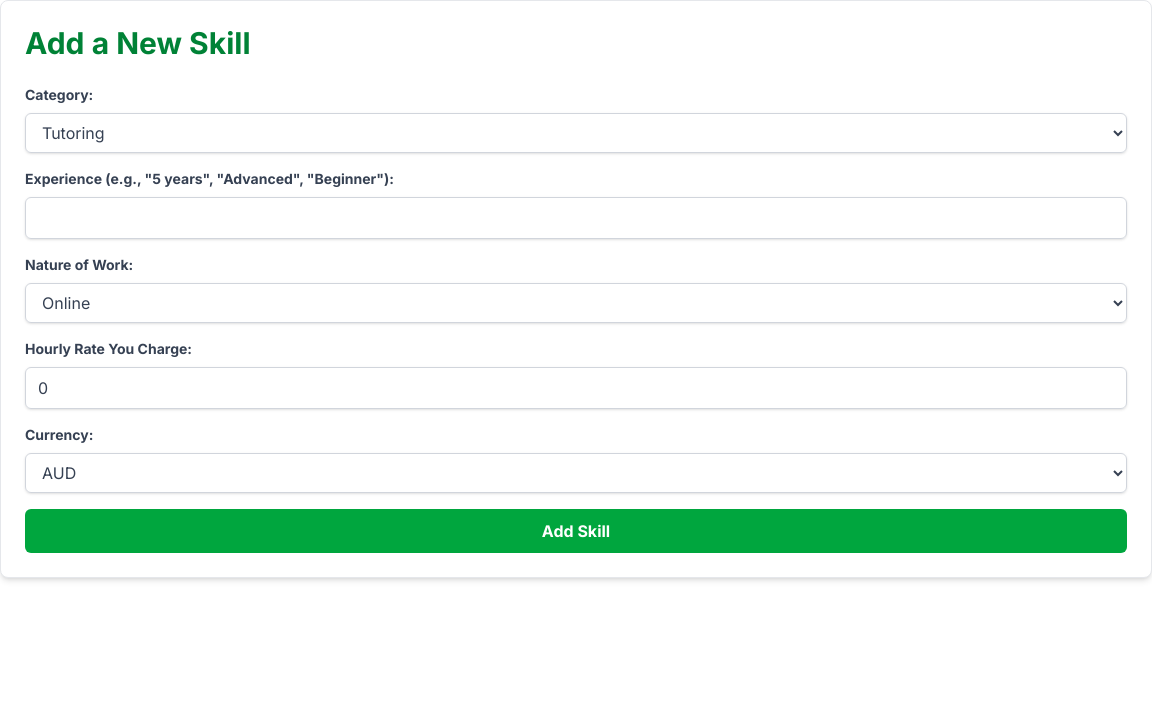
Test case: CreateSkillPage › submits form and shows success, then redirects
Type "5 years" into the field labelled "Experience (e.g., \"5 years\", \"Advanced\", \"Beginner\"):" at (576, 218), box [25,197,1127,239]
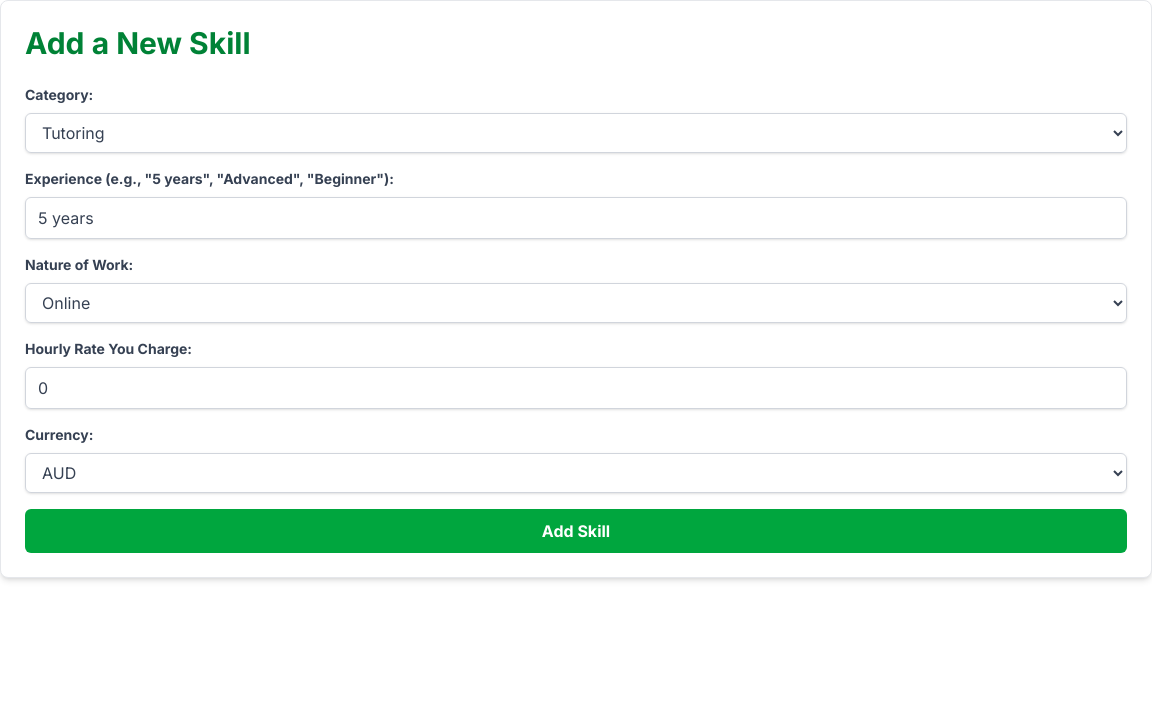
Replace the text in the number field labelled "Hourly Rate You Charge:" with "100" at (576, 388), box [25,367,1127,409]
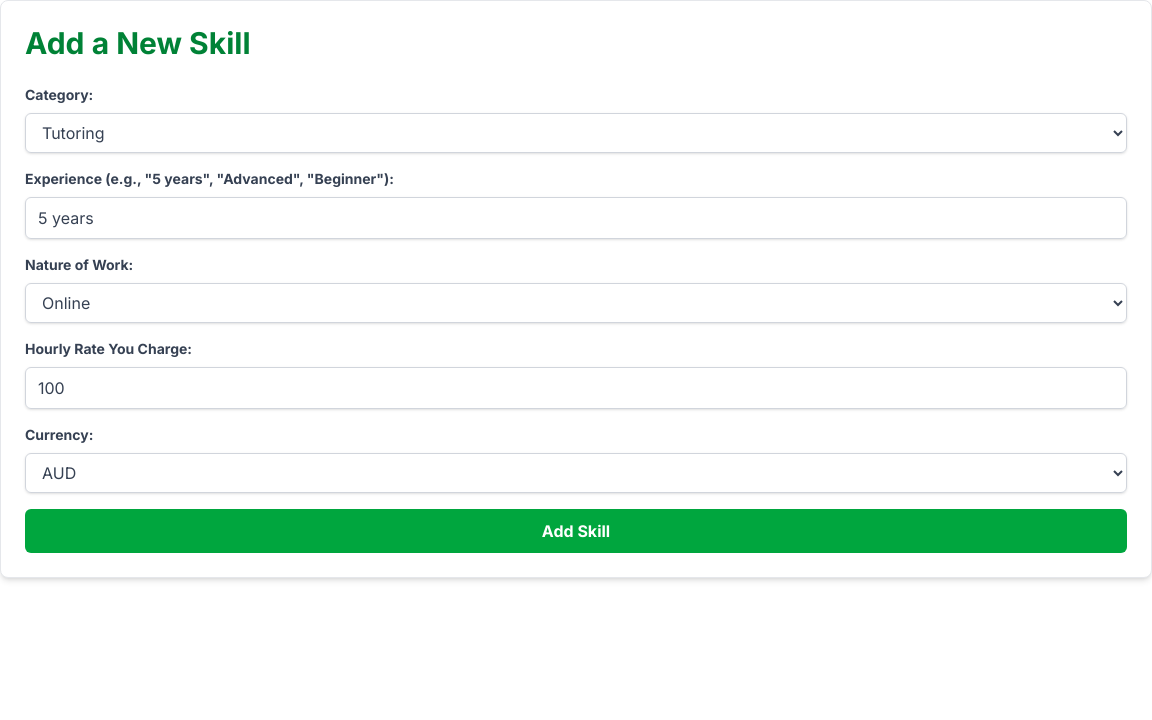
Click the button "Add Skill" at (576, 531), box [25,509,1127,553]
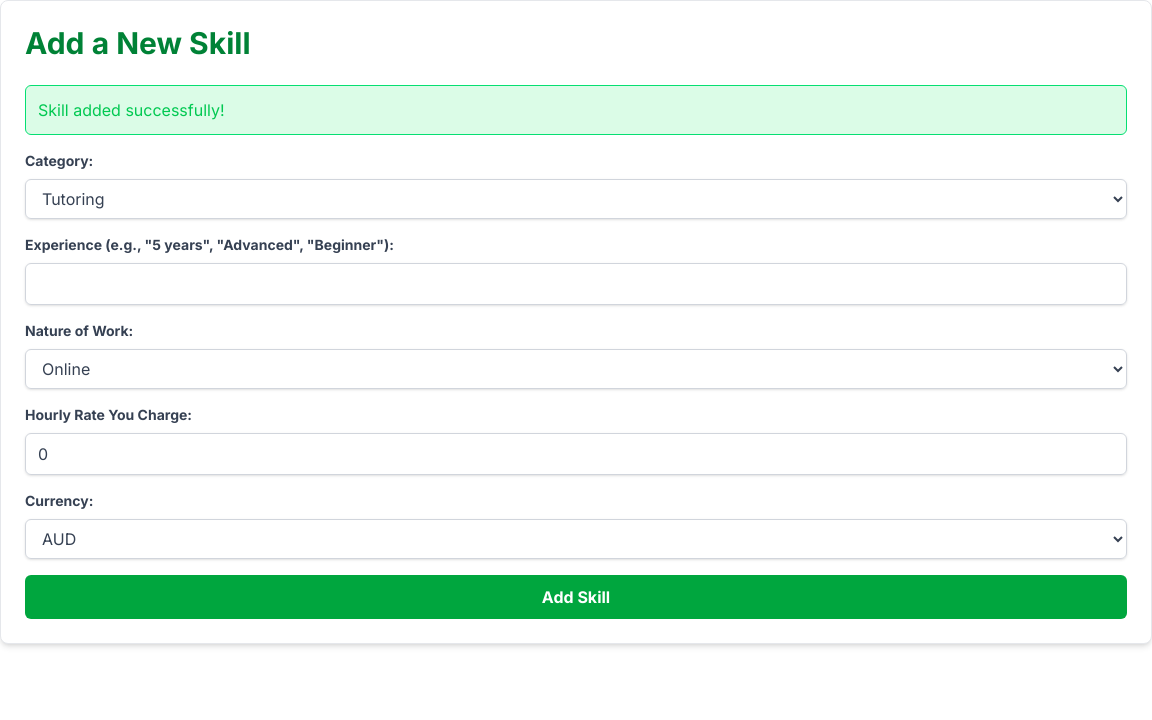
Expected: the text "Skill added successfully!" is shown, [25,85,1127,135]
